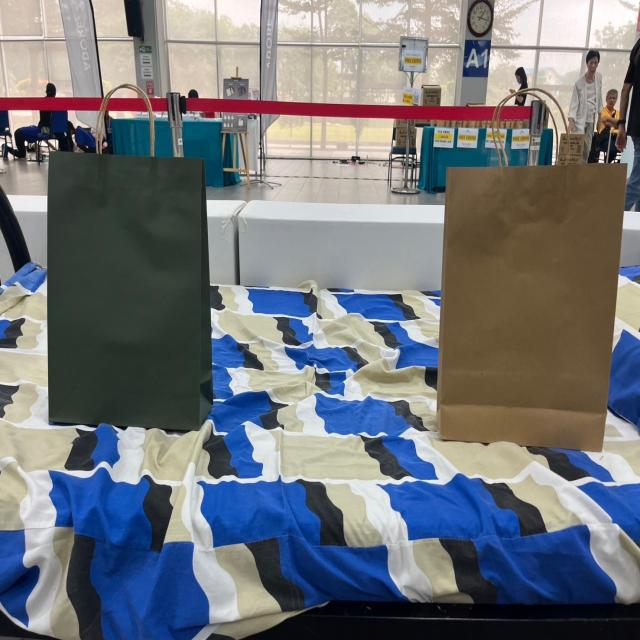bag: (457, 93, 608, 423), (60, 95, 196, 411)
